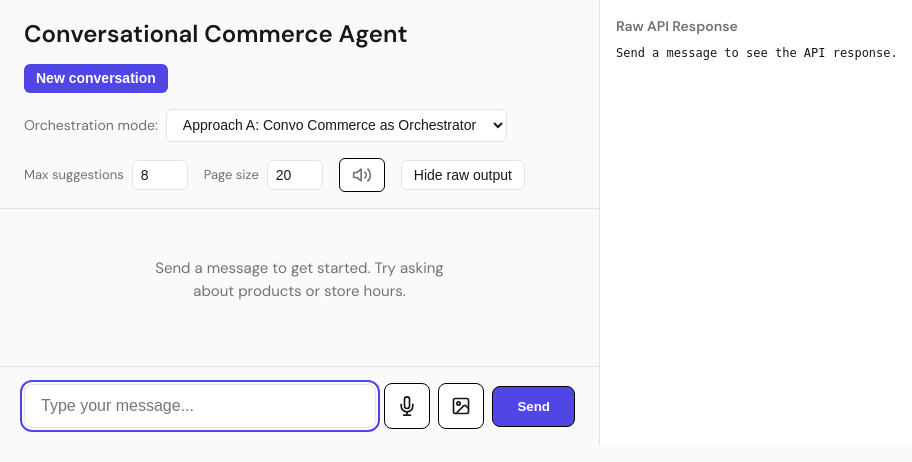
Scenario: ChatInterface › toggles raw output panel visibility
Expected: the heading "Raw API Response" is shown, [616, 17, 738, 35]
What coordinates should you click on to do the following:
click the button "Hide raw output"
I would click on:
 (463, 175)
Its box is [401, 160, 525, 190].
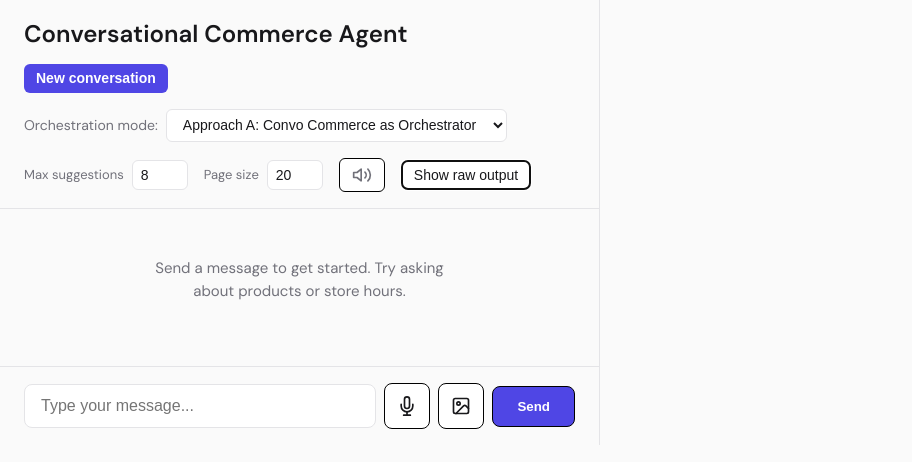
Expected: the heading "Raw API Response" is gone
What coordinates should you click on to do the following:
click the button "Show raw output"
I would click on:
 (466, 175)
Its box is [401, 160, 531, 190].
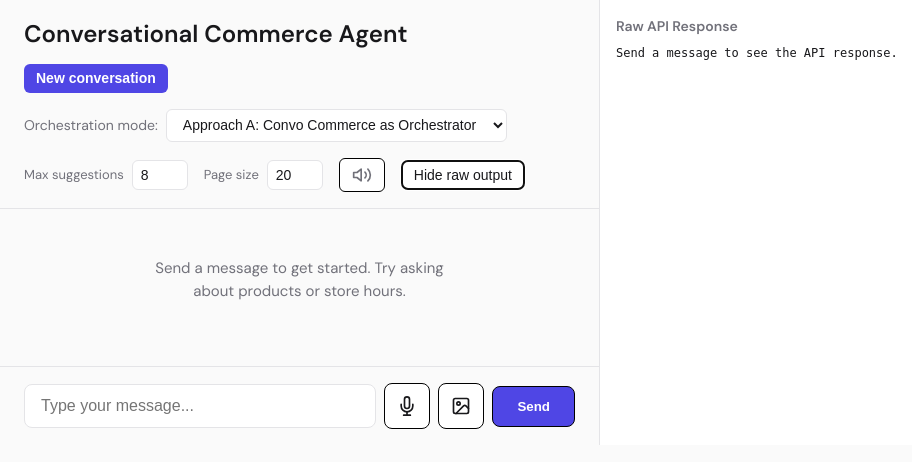
Expected: the heading "Raw API Response" is shown, [616, 17, 738, 35]
